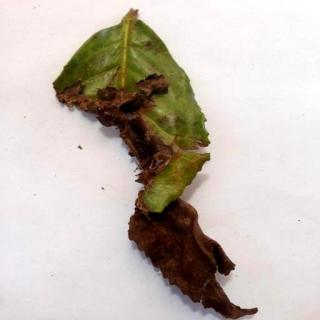Algal Leaf: (57, 11, 261, 320)
